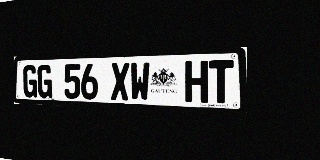5: (64, 64, 80, 99)
6: (81, 63, 98, 100)
G: (23, 65, 37, 98), (38, 65, 52, 98)
H: (185, 60, 208, 103)
T: (209, 60, 234, 104)
W: (130, 62, 150, 101)
X: (111, 63, 129, 101)
